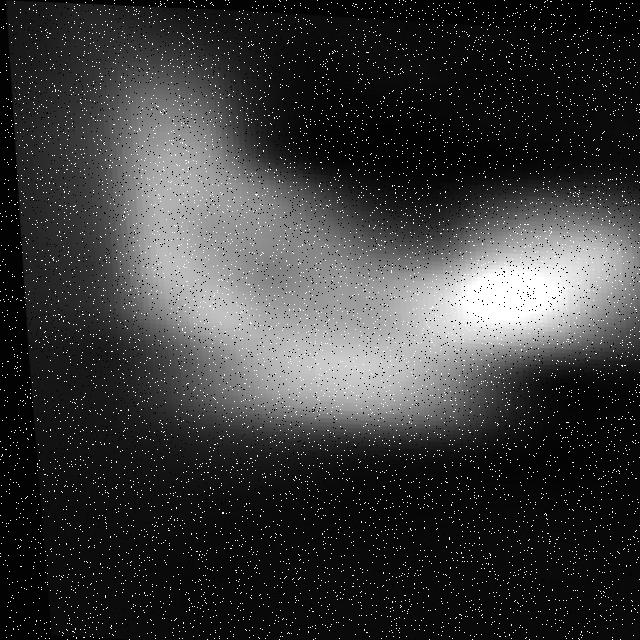person: (40, 115, 640, 463)
